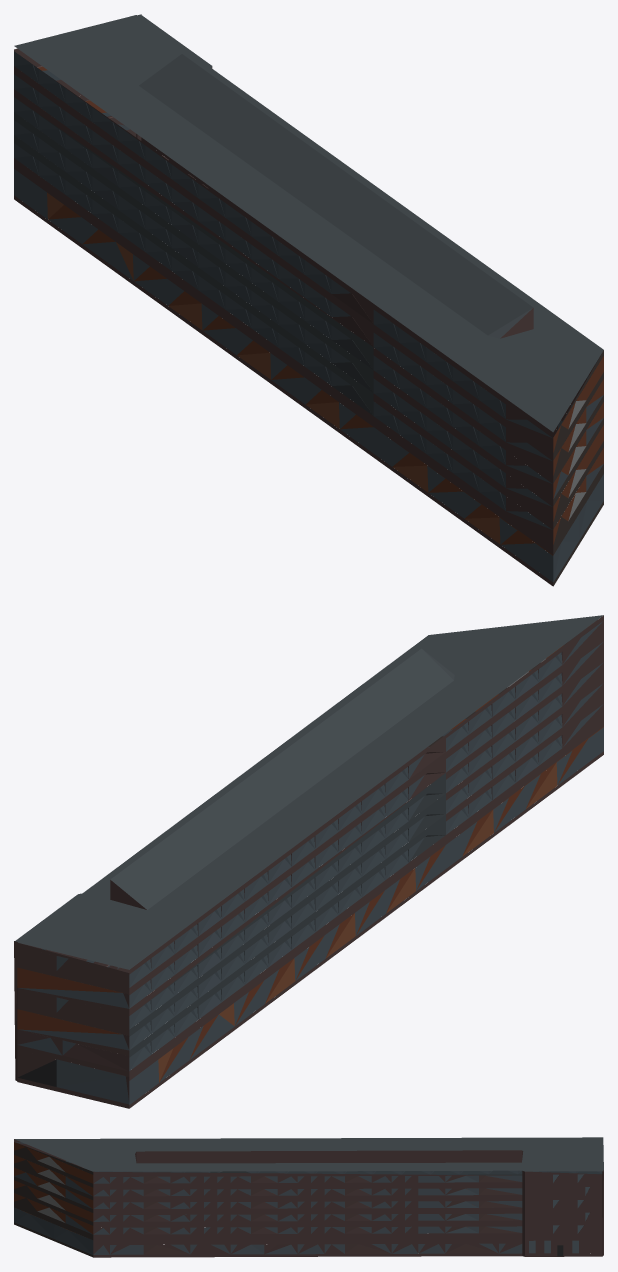
The model's file is panamalaan-10.lod2.glb.
3 renders of one model, top to bottom at view 1: azimuth 30°, elevation 25°; view 2: azimuth 150°, elevation 25°; view 3: azimuth 270°, elevation 25°, orthographic. The views are drawn at different scales.
Visible parts, largest first — view 1: lod2; view 2: lod2; view 3: lod2.
Boxes of the visible parts, box(x1,y1,x2,y2) form: lod2: box(14, 14, 603, 586); lod2: box(14, 615, 603, 1108); lod2: box(14, 1137, 603, 1257).
Bounding box in the file's own units: 16.86 × 21.89 × 120.
